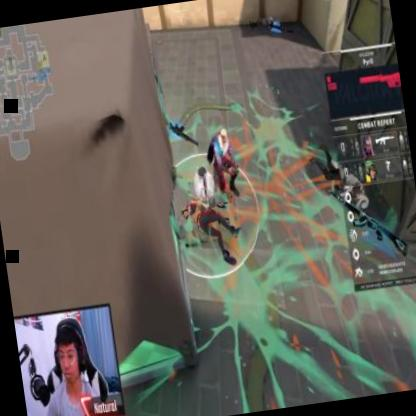enemy: (203, 124, 241, 200)
enemy_head: (219, 127, 228, 144)
